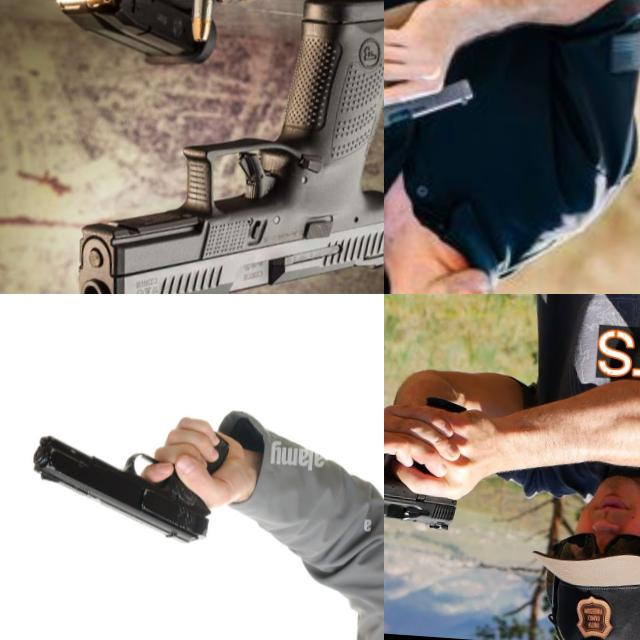handgun: (65, 0, 384, 294), (22, 412, 235, 550), (384, 0, 489, 173), (384, 384, 473, 534)
